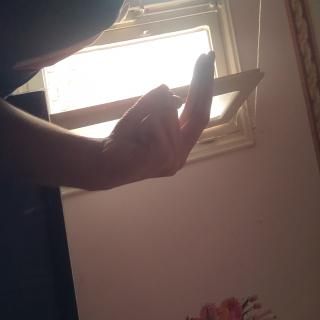ZAY: (36, 134, 150, 307)
